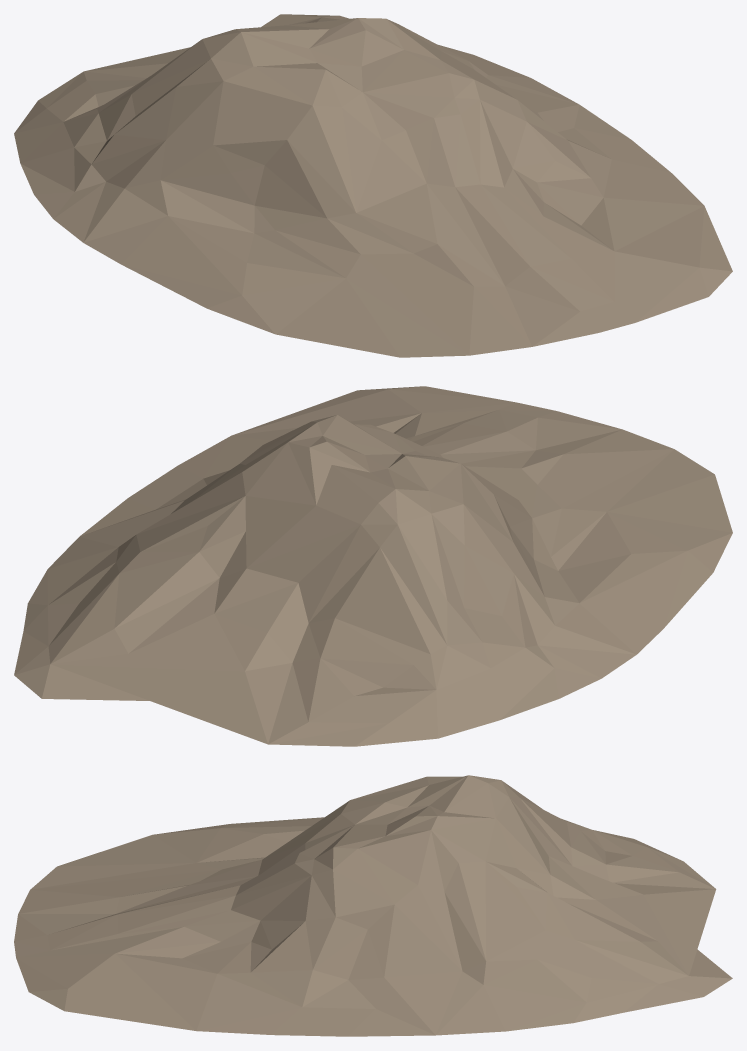
The model's file is SM_Env_Dirt_Pile_03.fbx.
3 renders of one model, top to bottom at view 1: azimuth 30°, elevation 25°; view 2: azimuth 150°, elevation 25°; view 3: azimuth 270°, elevation 25°, orthographic. The views are drawn at different scales.
Visible parts, largest first — view 1: SM_Env_Dirt_Pile_03; view 2: SM_Env_Dirt_Pile_03; view 3: SM_Env_Dirt_Pile_03.
Boxes of the visible parts, left/top/right/bottom form: SM_Env_Dirt_Pile_03: left=14, top=14, right=732, bottom=357; SM_Env_Dirt_Pile_03: left=14, top=386, right=732, bottom=746; SM_Env_Dirt_Pile_03: left=14, top=775, right=732, bottom=1036.
Size of the model in its own units: 982 by 256 by 1333.
